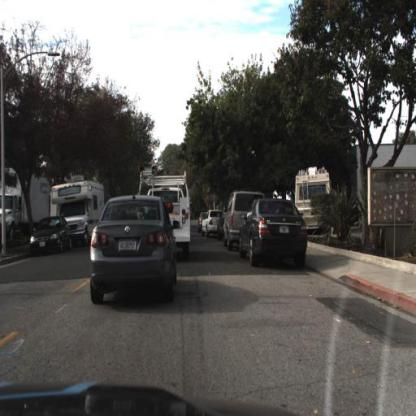car: (92, 194, 178, 304), (130, 165, 192, 258), (239, 198, 309, 268), (292, 161, 333, 238), (50, 180, 104, 231), (222, 192, 265, 252), (28, 211, 72, 258), (200, 210, 225, 238)
truck: (140, 180, 193, 259), (47, 175, 103, 248), (0, 161, 51, 239), (296, 170, 338, 245)
